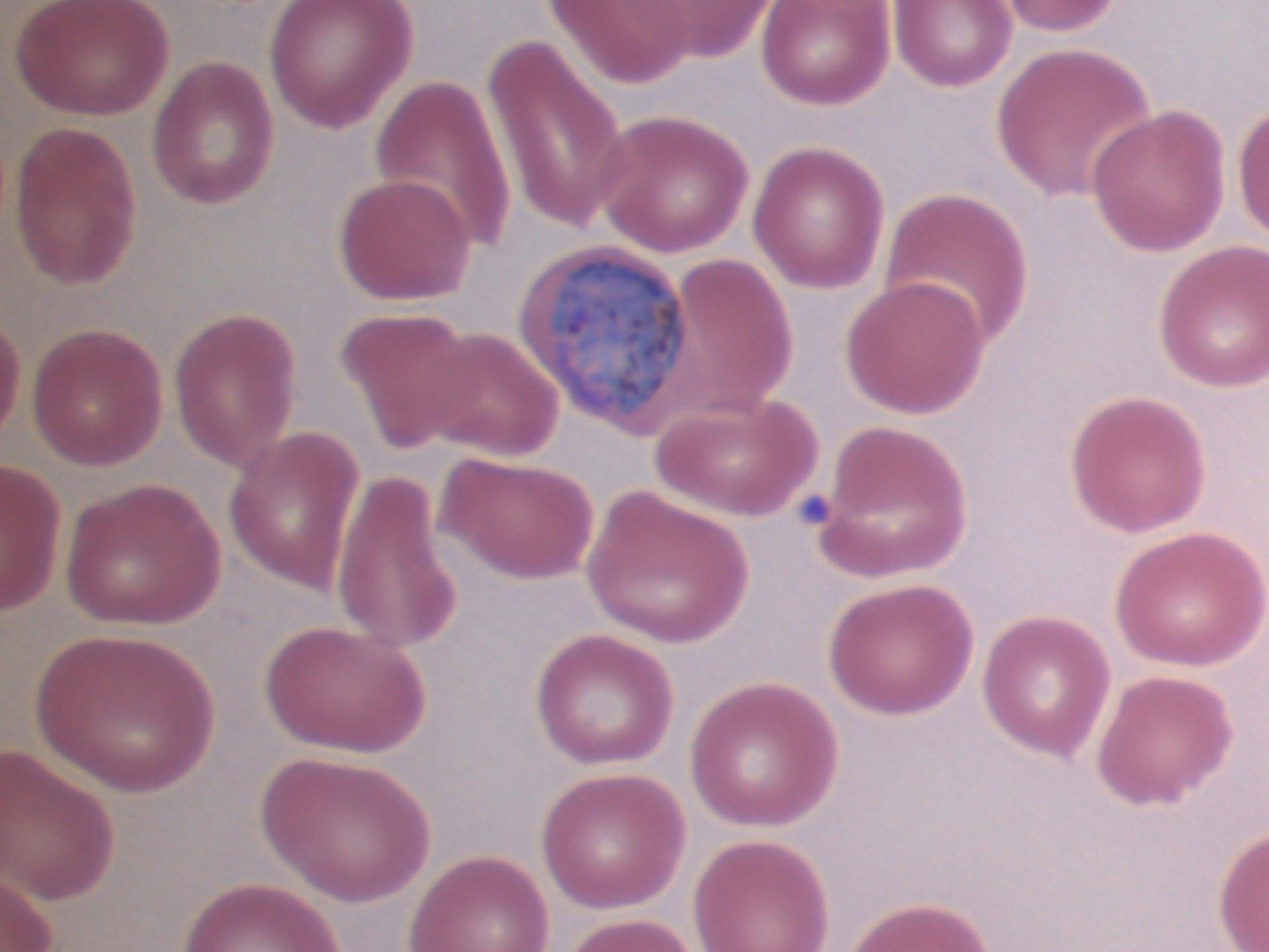Infected: (517, 245, 690, 438)
Uninfected: (487, 43, 633, 221), (46, 641, 210, 793), (590, 497, 748, 643), (264, 762, 430, 899), (820, 426, 968, 578), (377, 83, 508, 249), (998, 52, 1150, 193), (233, 431, 361, 598), (337, 476, 459, 647), (691, 689, 834, 830), (69, 488, 217, 624), (1117, 533, 1260, 673), (603, 119, 750, 252), (268, 630, 422, 754), (829, 587, 974, 717), (848, 278, 985, 414), (1094, 676, 1231, 809), (273, 0, 412, 131), (985, 616, 1110, 760), (892, 197, 1023, 332), (656, 403, 813, 514), (547, 777, 683, 905), (438, 464, 590, 578), (1072, 398, 1203, 530), (679, 260, 792, 411), (33, 334, 160, 468), (0, 752, 112, 901), (20, 132, 130, 283), (1097, 114, 1220, 249), (758, 154, 880, 289), (540, 633, 667, 762), (20, 2, 167, 112), (178, 322, 293, 460), (154, 65, 267, 201), (430, 339, 558, 459), (344, 321, 465, 447), (1163, 246, 1269, 389), (340, 185, 471, 299), (694, 846, 822, 952), (412, 860, 547, 952), (765, 5, 890, 104), (899, 0, 1013, 85)
